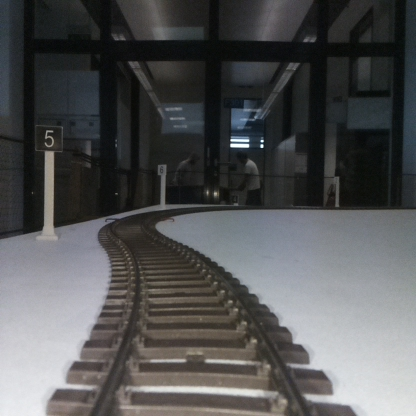black-info-5: (36, 125, 62, 237)
white-info-6: (158, 164, 166, 210)
